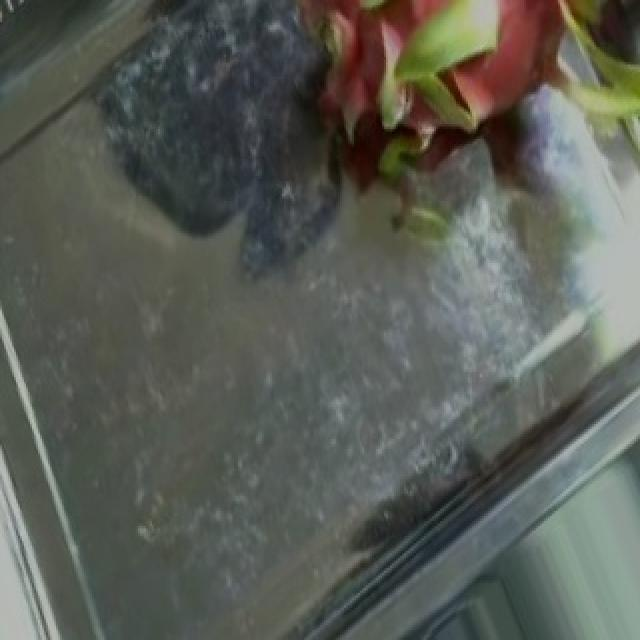fruit: (220, 0, 640, 313)
